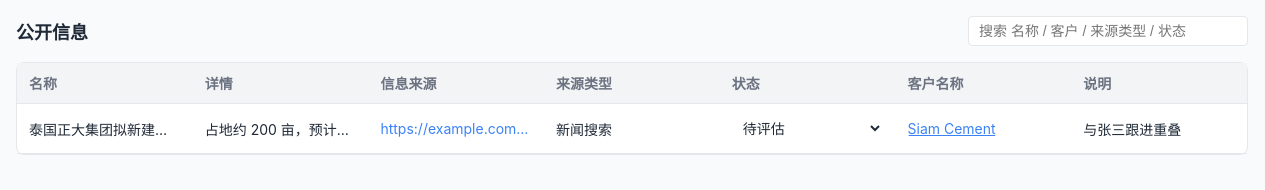
OpportunityList 内联状态修改 › 失败时 select 还原原值 + InlineStatusSelect 自身展示错误
Expected: the text "泰国正大集团拟新建食品加工厂" is shown, left=17, top=104, right=193, bottom=154
Select "已转化" in the dropdown with test id "status-select" at (808, 128), box left=732, top=114, right=884, bottom=143
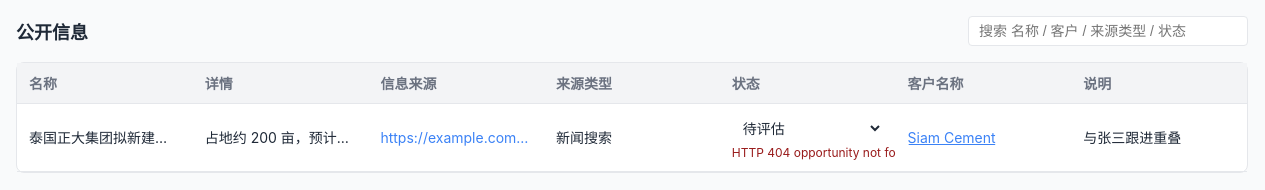
Expected: the message with test id "status-select-error" shows "opportunity not found", left=732, top=145, right=896, bottom=160
